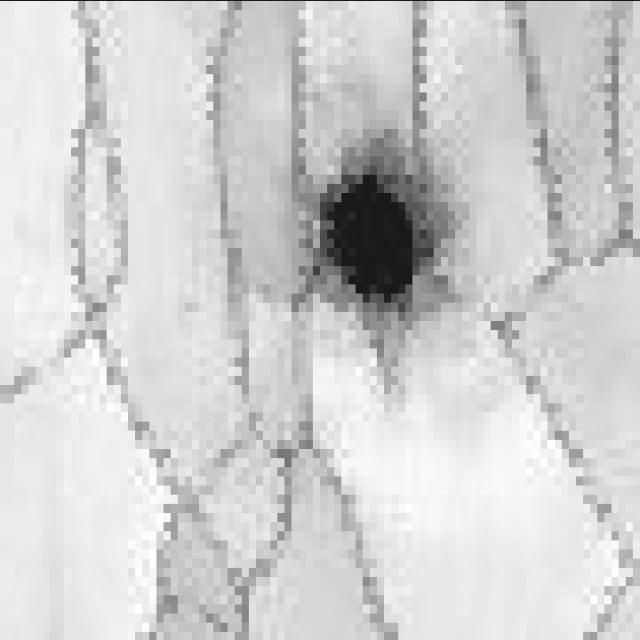good_void: (289, 119, 471, 384)
